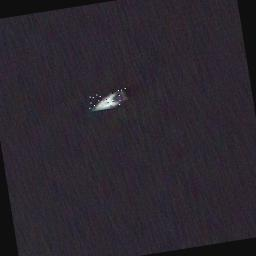boat: (86, 88, 132, 112)
